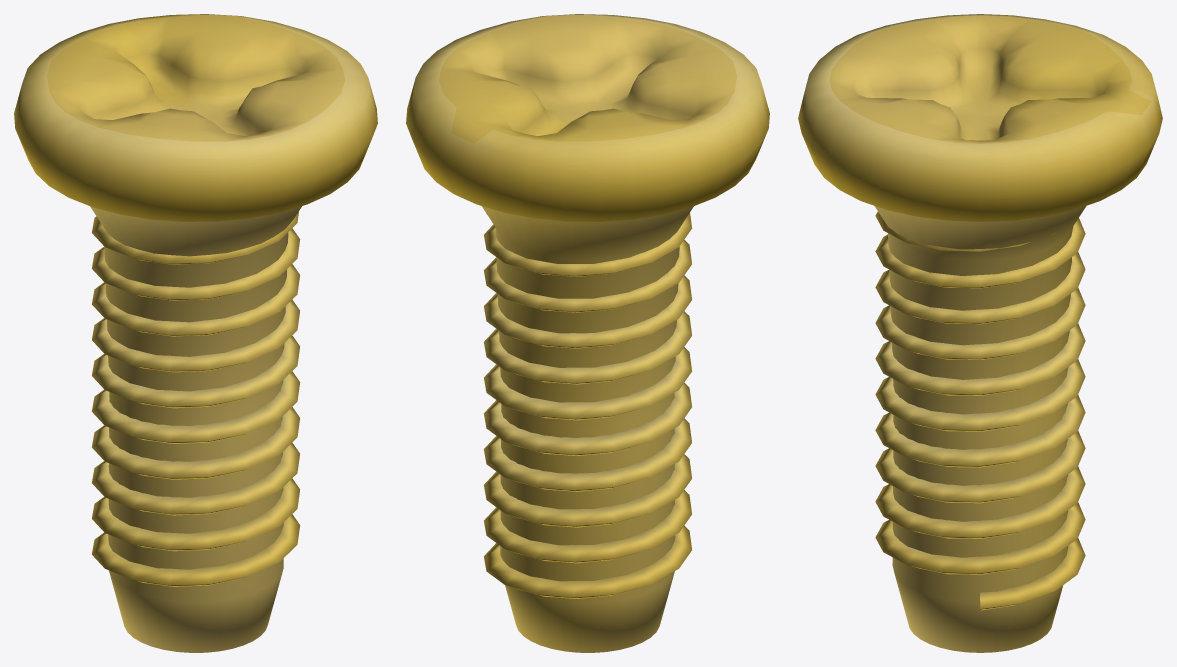
The model's file is AnimTour.FBX.
The picture shows the model from 3 angles, left to right: view 1: azimuth 30°, elevation 25°; view 2: azimuth 150°, elevation 25°; view 3: azimuth 270°, elevation 25°; orthographic projection.
Parts seen in each view (by area): view 1: Cylinder01, Spring01; view 2: Cylinder01, Spring01; view 3: Cylinder01, Spring01.
Boxes of the visible parts, <box> form: Cylinder01: <box>14,14,377,652</box>; Spring01: <box>92,211,300,586</box>; Cylinder01: <box>406,14,769,652</box>; Spring01: <box>484,213,692,598</box>; Cylinder01: <box>798,14,1162,652</box>; Spring01: <box>875,211,1085,610</box>.
Size of the model in its own units: 39.24 by 64.7 by 39.24.
1 material, 1 textured.
